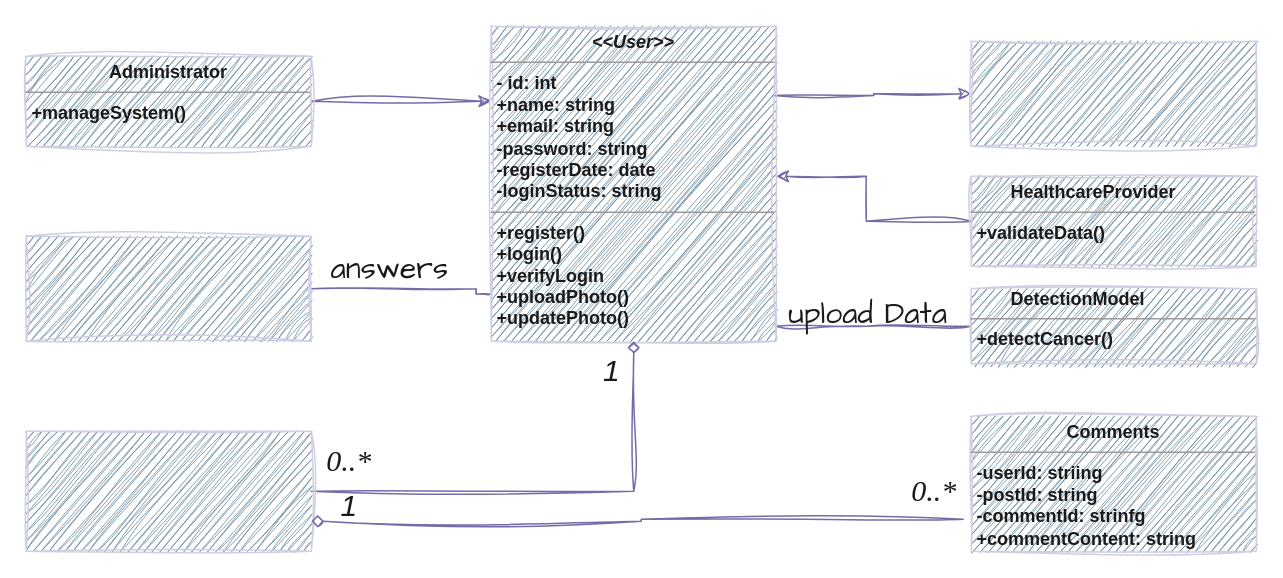
Image size: 1283x578. Some labels were removed from this diagram. The shapes that lost their labels are listed below. From the top down, each one's centre as x and y in pixels, then its label:
(x=1113, y=93): Patient +ProvideData() +receiveResults()
(x=168, y=288): Polls +askQuestions() +generateInsights()
(x=168, y=490): Posts -userId: striing -postId: string +postContent: string
